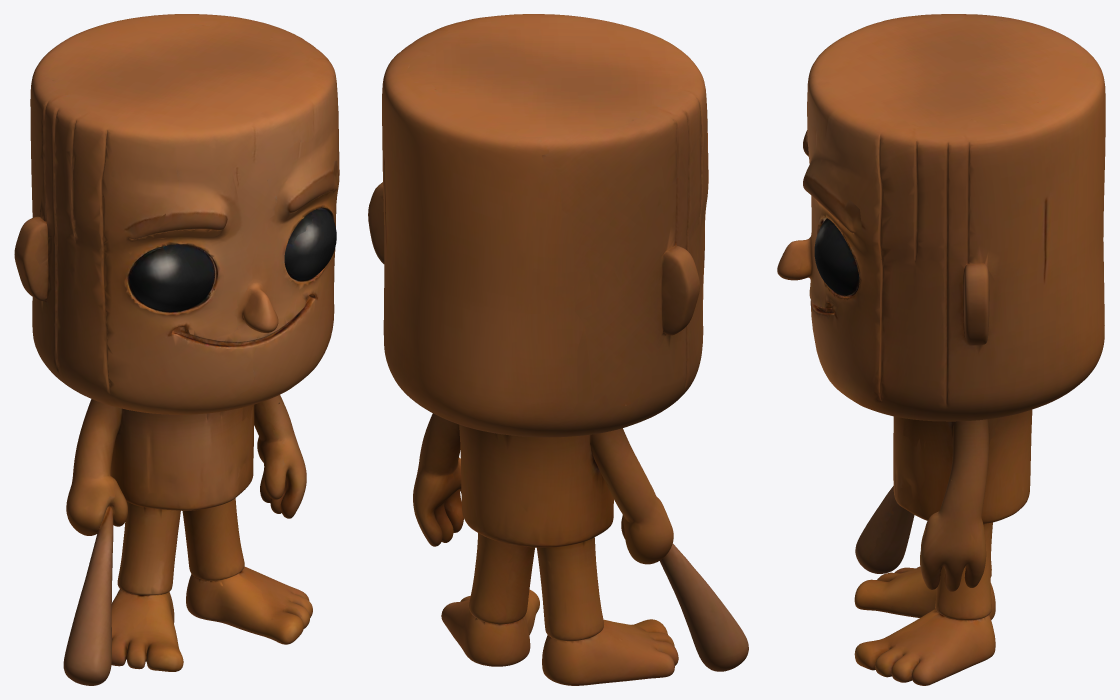
The model's file is web.glb.
3 views of the same model, side by side, from view 1: azimuth 30°, elevation 25°; view 2: azimuth 150°, elevation 25°; view 3: azimuth 270°, elevation 25° (orthographic). The views are drawn at different scales.
Parts seen in each view (by area): view 1: model; view 2: model; view 3: model.
Boxes of the visible parts, x1,y1,x2,y2 form: model: (14,14,339,685); model: (368,14,748,685); model: (777,14,1105,685).
Bounding box in the file's own units: 1.14 × 2 × 1.05.
Materials: 1 (1 with a texture image).
